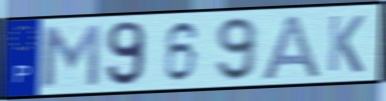6: (163, 20, 199, 83)
9: (103, 19, 150, 88), (214, 15, 260, 82)
A: (256, 12, 324, 82)
K: (325, 13, 367, 75)
M: (40, 22, 103, 89)
